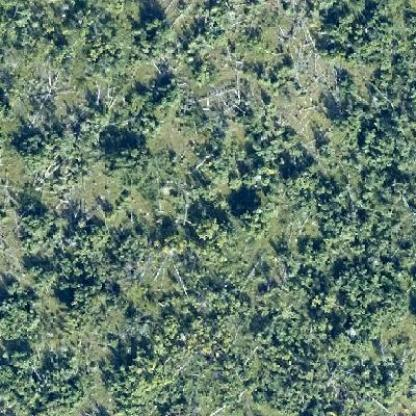tree-top: (135, 16, 173, 46), (236, 206, 272, 236), (51, 350, 81, 382), (191, 213, 220, 240), (2, 276, 20, 298), (225, 174, 243, 192), (99, 206, 120, 220)
